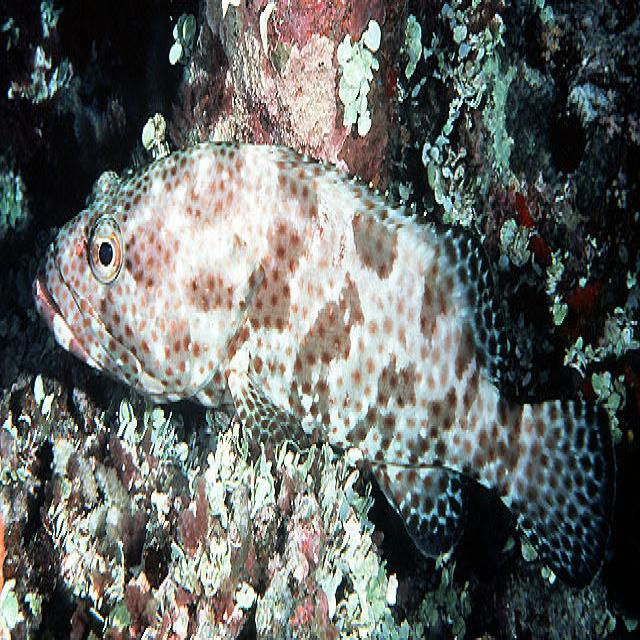ikan: (31, 135, 616, 590)
